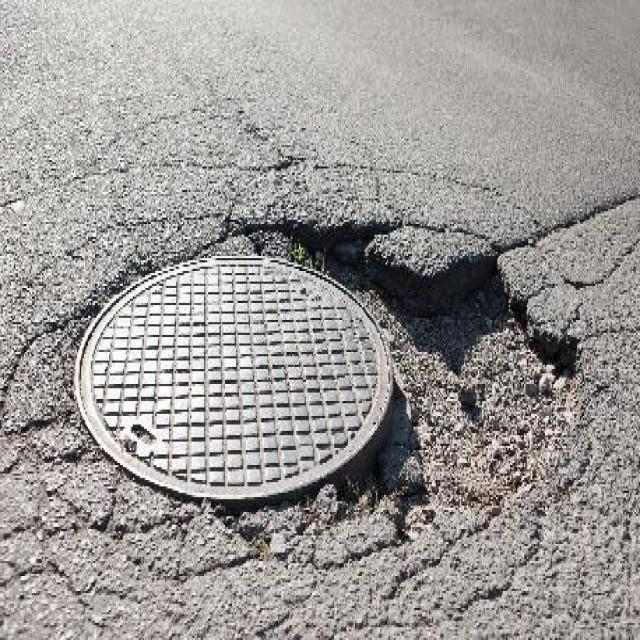pothole: (269, 205, 589, 536), (267, 218, 578, 539)
